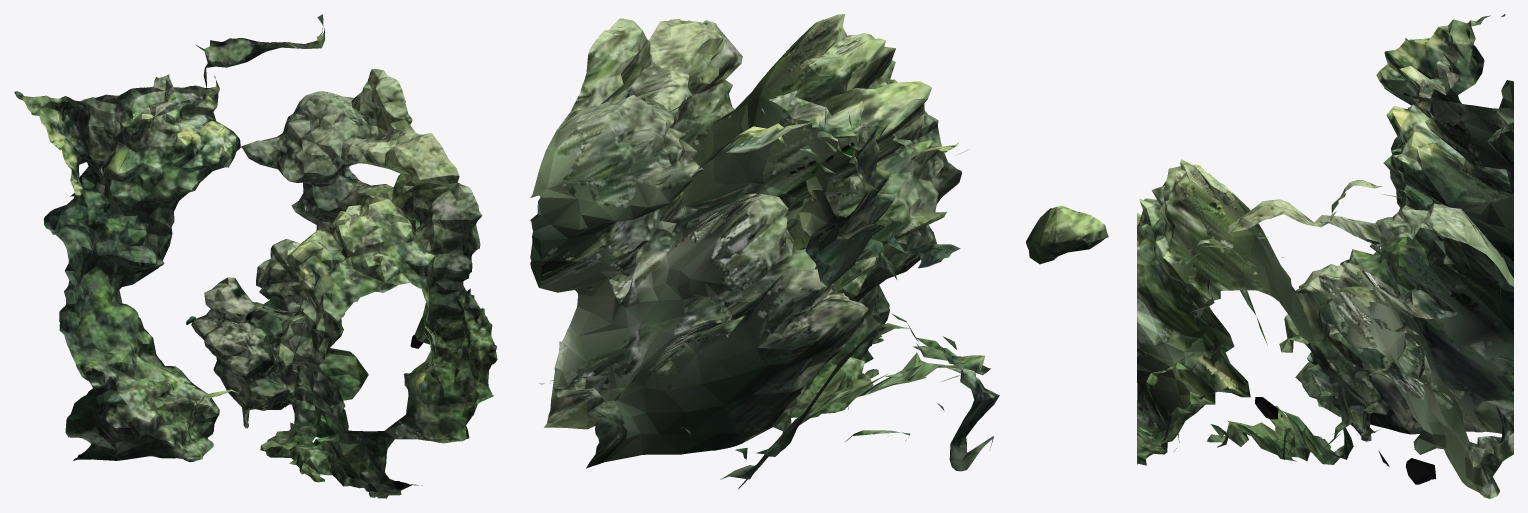
The picture shows the model from 3 angles, left to right: view 1: azimuth 30°, elevation 25°; view 2: azimuth 150°, elevation 25°; view 3: azimuth 270°, elevation 25°; orthographic projection. The views are drawn at different scales.
Bounding box in the file's own units: 26.11 × 26.11 × 26.11.
Materials: 9 (9 with a texture image).
